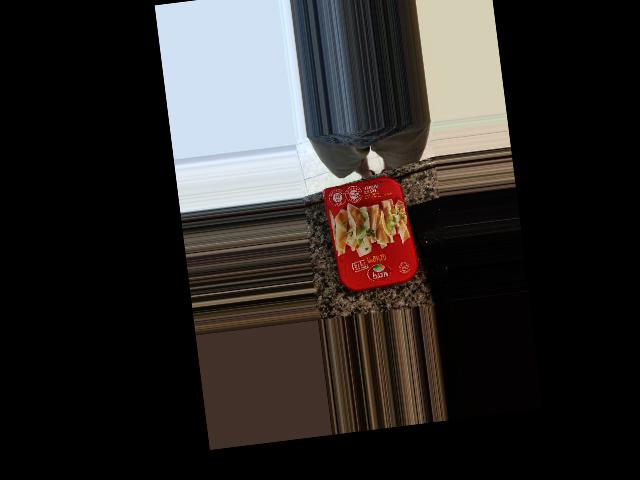cheese: (329, 150, 429, 270)
